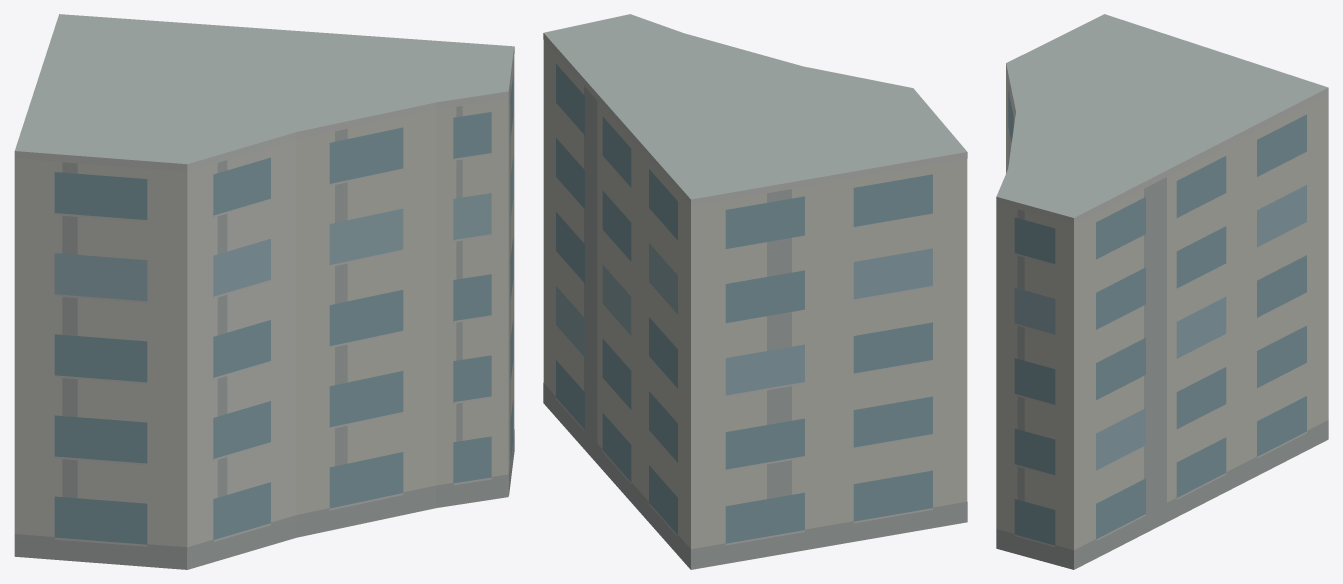
The model's file is survey-upis-33000379.glb.
3 renders of one model, left to right at view 1: azimuth 30°, elevation 25°; view 2: azimuth 150°, elevation 25°; view 3: azimuth 270°, elevation 25°, orthographic. The views are drawn at different scales.
Visible parts, largest first — view 1: survey-upis-33000379.tmp; view 2: survey-upis-33000379.tmp; view 3: survey-upis-33000379.tmp.
Boxes of the visible parts, x1=… form: survey-upis-33000379.tmp: x1=14, y1=14, x2=514, y2=569; survey-upis-33000379.tmp: x1=543, y1=14, x2=967, y2=569; survey-upis-33000379.tmp: x1=996, y1=14, x2=1328, y2=569.
Bounding box in the file's own units: 16.17 × 13 × 11.14.
